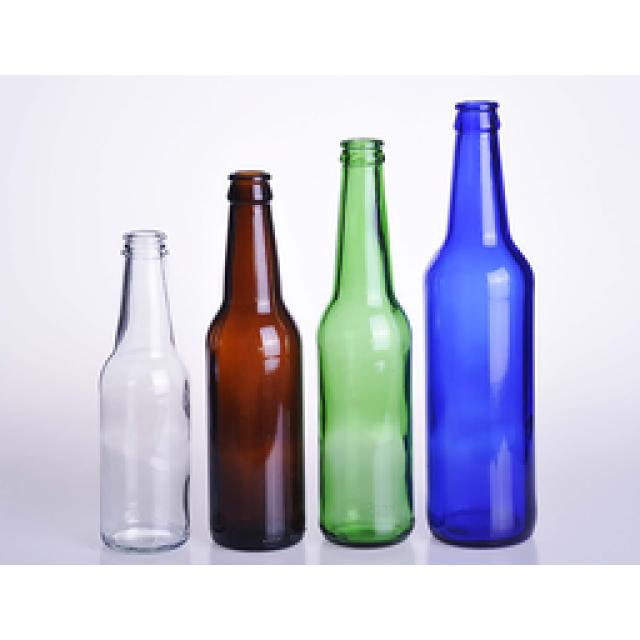glass_beverage_bottles: (427, 105, 538, 547), (322, 138, 412, 547), (210, 170, 303, 548), (102, 230, 190, 548)
